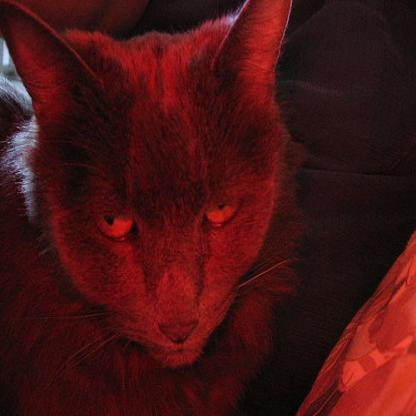cat: (0, 0, 295, 415)
